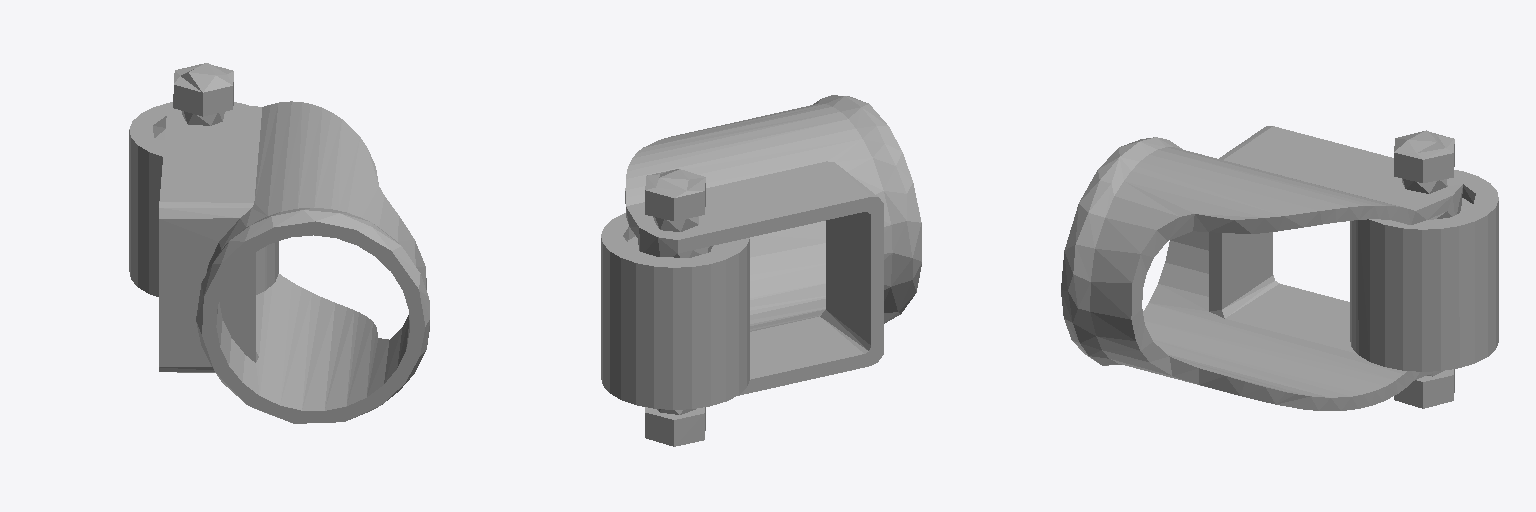
File: caster_1.obj
The picture shows the model from 3 angles: view 1: azimuth 30°, elevation 25°; view 2: azimuth 150°, elevation 25°; view 3: azimuth 270°, elevation 25°; orthographic projection.
Parts seen in each view (by area): view 1: caster_1; view 2: caster_1; view 3: caster_1.
Boxes of the visible parts, x1=… form: caster_1: x1=129, y1=63, x2=429, y2=423; caster_1: x1=601, y1=95, x2=921, y2=446; caster_1: x1=1061, y1=126, x2=1498, y2=410.
Size of the model in its own units: 0.033 by 0.038 by 0.0587.